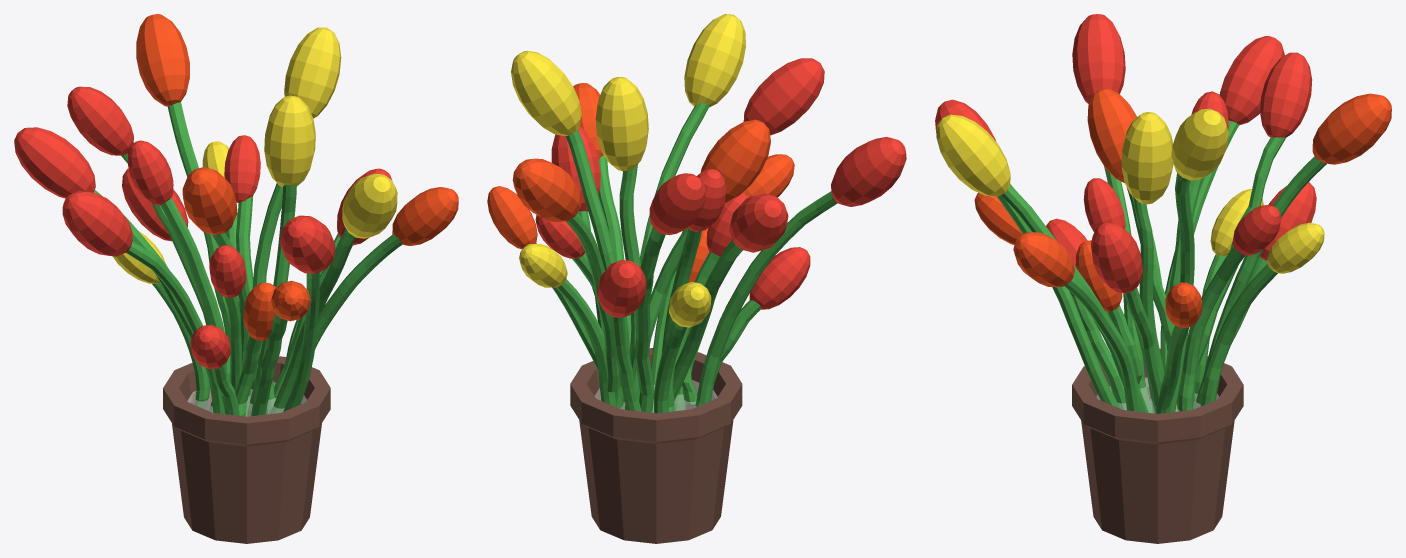
Rendered from materials.obj.
3 renders of one model, left to right at view 1: azimuth 30°, elevation 25°; view 2: azimuth 150°, elevation 25°; view 3: azimuth 270°, elevation 25°, orthographic. The views are drawn at different scales.
Visible parts, largest first — view 1: group434744387; view 2: group434744387; view 3: group434744387.
Part boxes in pixels (x1=…): group434744387: x1=14, y1=14, x2=458, y2=543; group434744387: x1=487, y1=14, x2=906, y2=543; group434744387: x1=935, y1=14, x2=1391, y2=543.
Size of the model in its own units: 1.43 by 1.7 by 1.53.
